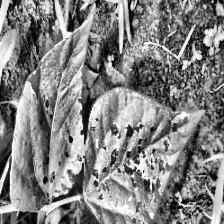ALS: (85, 79, 203, 224), (23, 8, 89, 210)
